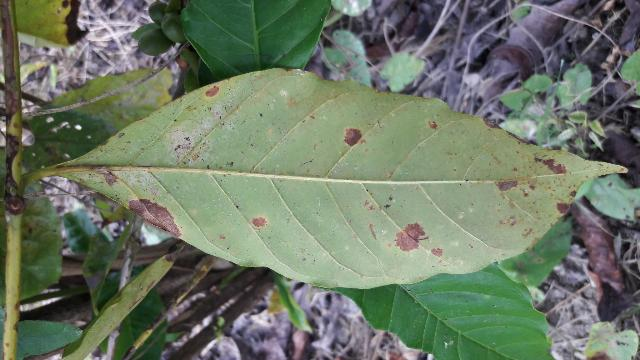red_spider_mite: (51, 68, 623, 289)
